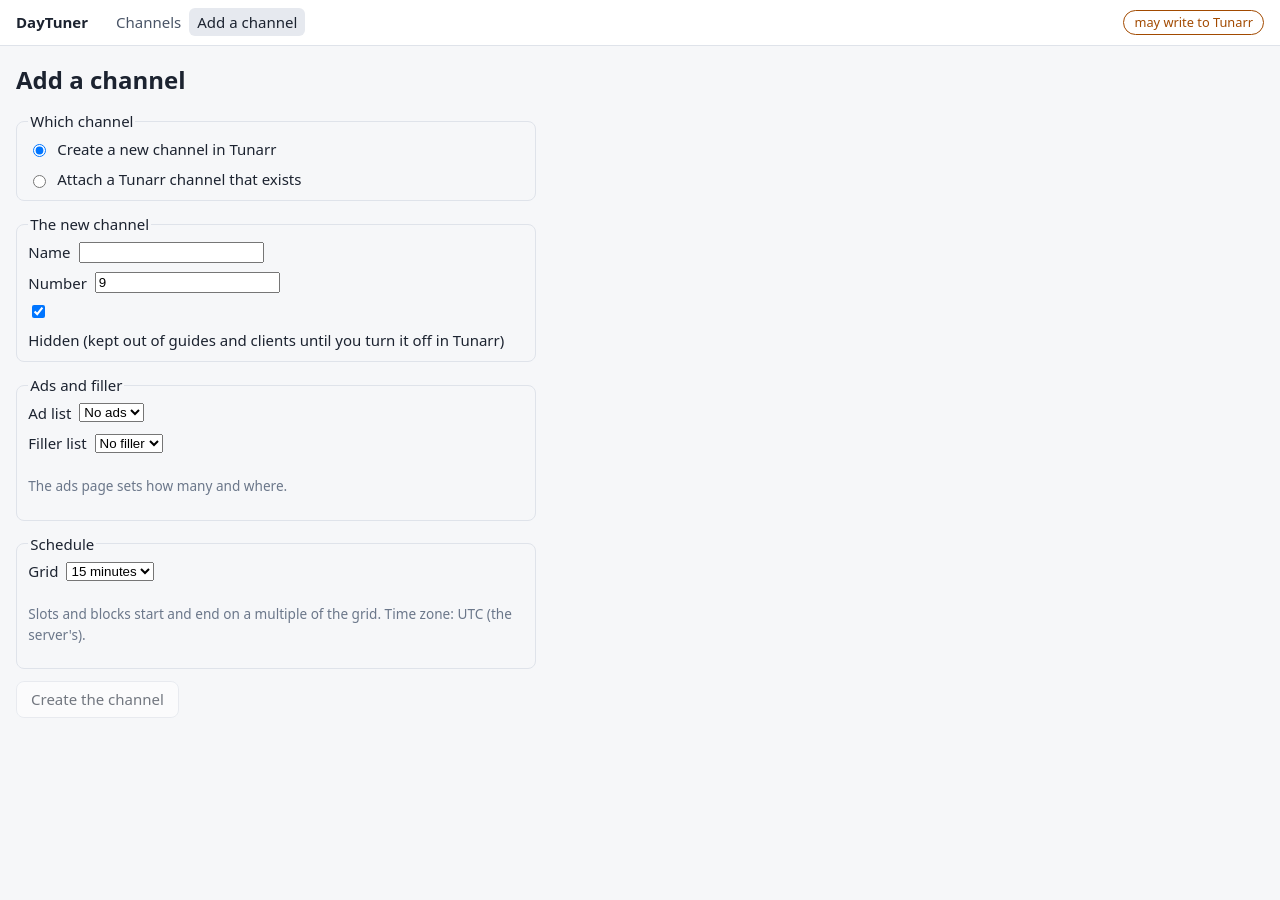
adding a channel › shows the reason when the server refuses
The image size is (1280, 900).
Expected: the text "UTC" is shown, [458,604,483,624]
Type "Clash" into the field labelled "Name" at (171, 252), box [79,242,264,263]
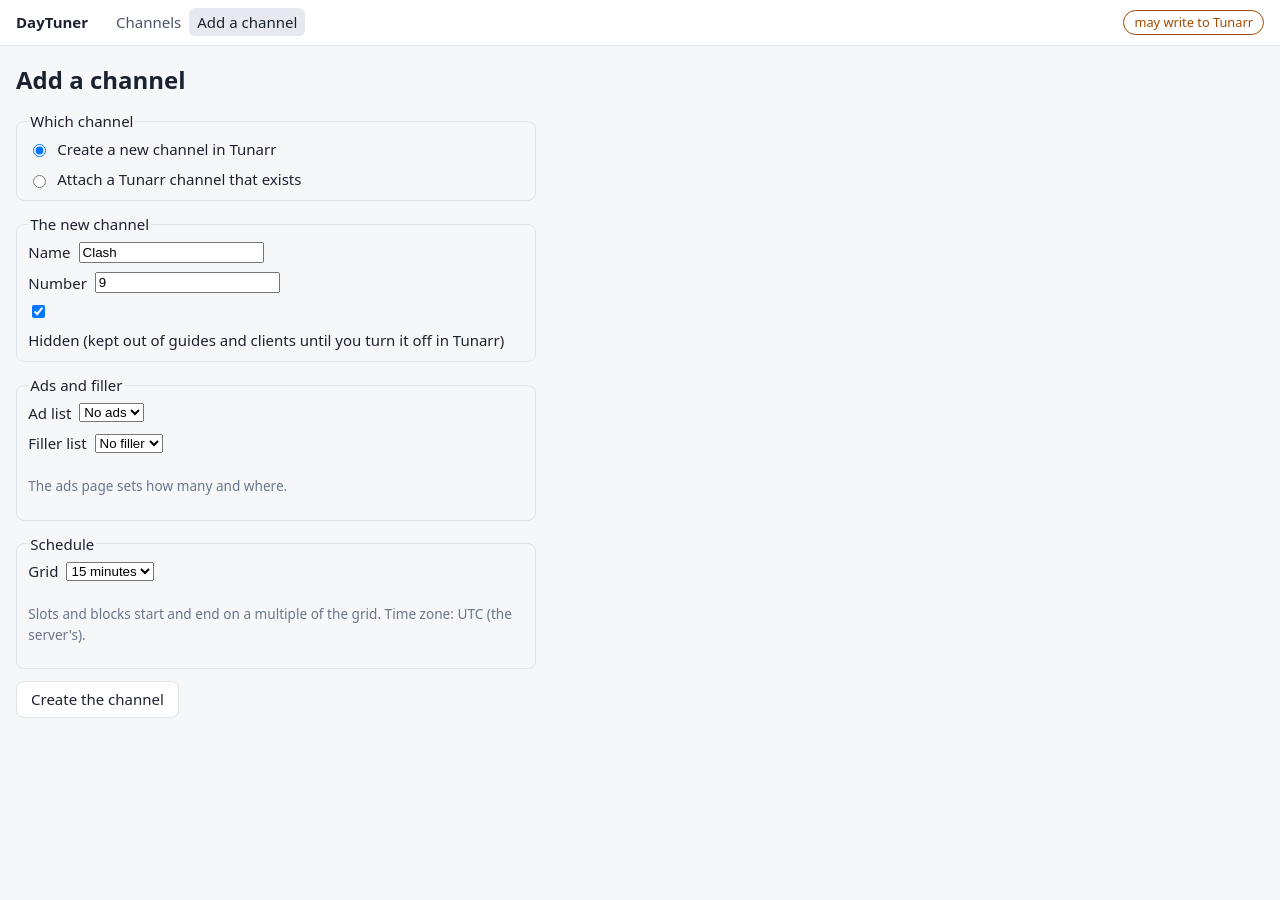
Click the button "Create the channel" at (97, 699), box [16,681,179,718]
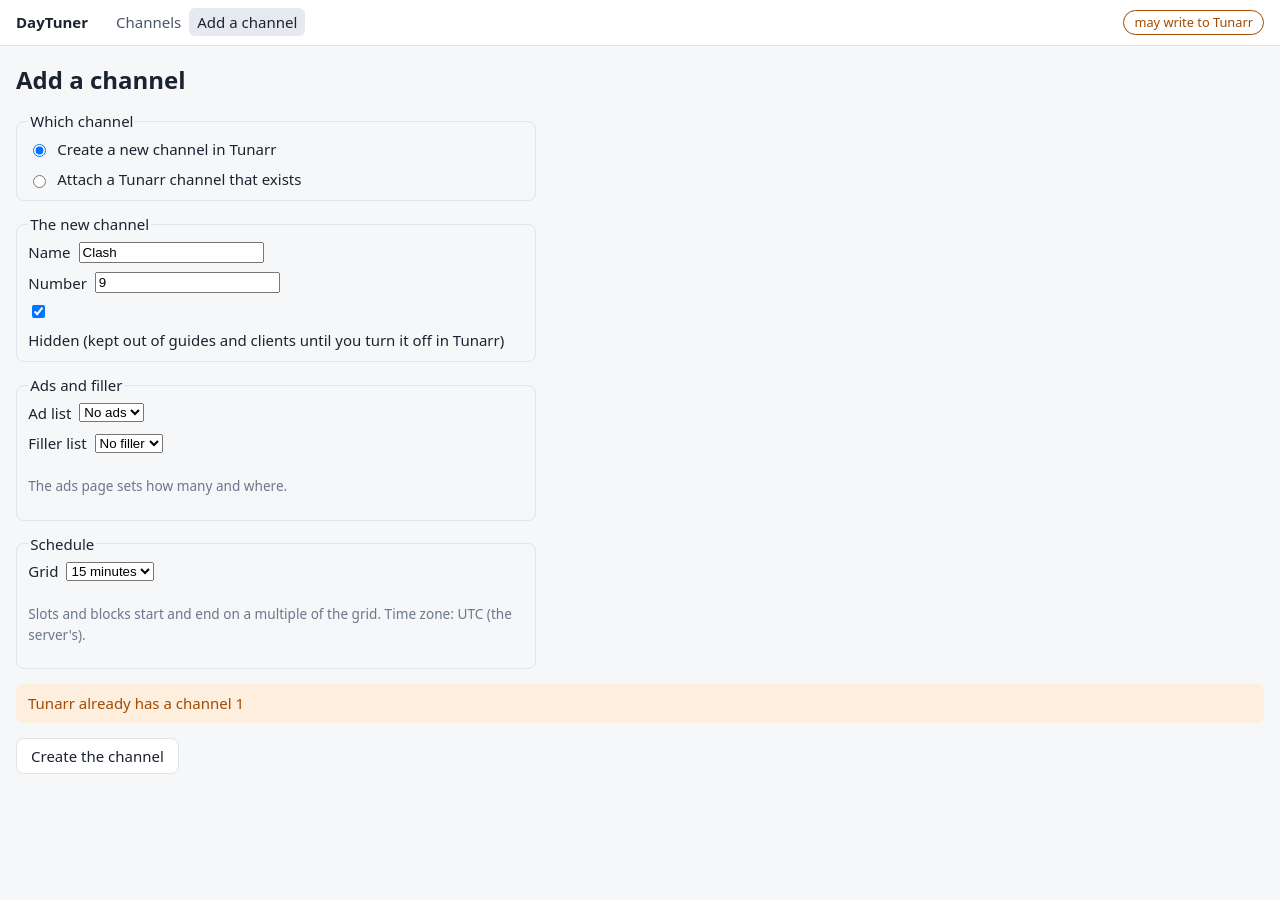
Result: the message shows "already has a channel 1" at [28,693,244,713]
